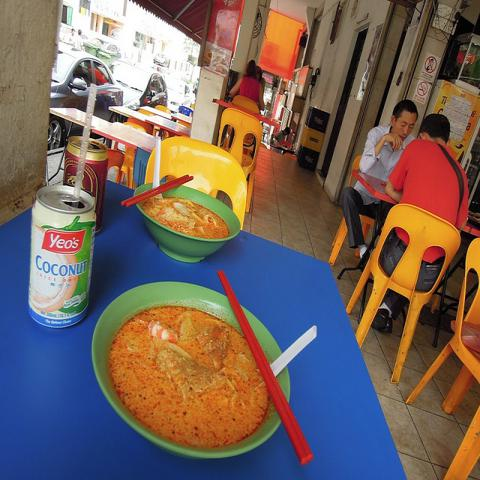car: (46, 45, 130, 133), (109, 56, 168, 110), (83, 37, 123, 64), (164, 74, 192, 112)
